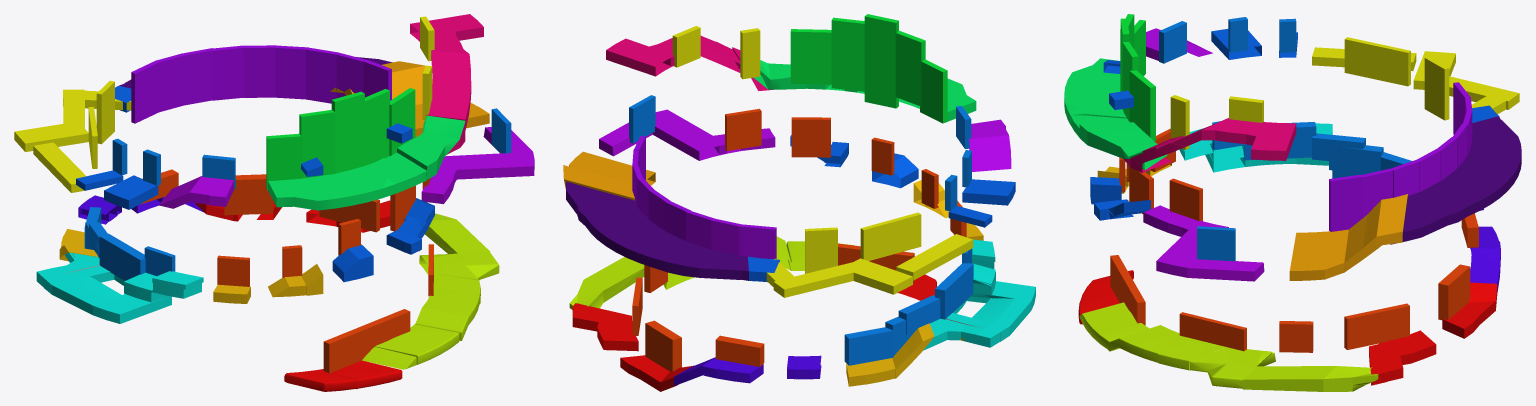
File: WallsChapel.fbx
3 views of the same model, side by side, from view 1: azimuth 30°, elevation 25°; view 2: azimuth 150°, elevation 25°; view 3: azimuth 270°, elevation 25° (orthographic). The views are drawn at different scales.
Parts seen in each view (by area): view 1: Cube__32_, Cube__42_, polySurface2, polySurface76, polySurface17, polySurface63, Cube__14_, polySurface67, Cube__7_, polySurface1, polySurface64, polySurface65 (+29 smaller); view 2: Cube__42_, polySurface70, Cube__32_, polySurface17, Cube__14_, polySurface63, polySurface2, polySurface64, Cube__34_, polySurface3, polySurface76, polySurface65 (+31 smaller); view 3: polySurface2, polySurface70, Cube__32_, polySurface64, polySurface76, polySurface63, Cube__14_, Cube__42_, Cube__34_, Cube__2_, polySurface3, polySurface83 (+29 smaller).
Part boxes in pixels (bbox=[...]): Cube__32_: bbox=[131, 45, 391, 123]; Cube__42_: bbox=[266, 88, 415, 190]; polySurface2: bbox=[362, 213, 499, 369]; polySurface76: bbox=[268, 115, 465, 210]; polySurface17: bbox=[36, 252, 203, 323]; polySurface63: bbox=[421, 127, 534, 204]; Cube__14_: bbox=[84, 207, 175, 280]; polySurface67: bbox=[426, 46, 471, 130]; Cube__7_: bbox=[323, 309, 410, 373]; polySurface1: bbox=[284, 360, 402, 391]; polySurface64: bbox=[330, 61, 489, 137]; polySurface65: bbox=[159, 176, 233, 208]; Cube__42_: bbox=[790, 14, 947, 123]; polySurface70: bbox=[566, 181, 747, 279]; Cube__32_: bbox=[632, 136, 776, 258]; polySurface17: bbox=[923, 239, 1035, 350]; Cube__14_: bbox=[844, 249, 973, 365]; polySurface63: bbox=[599, 109, 775, 160]; polySurface2: bbox=[569, 236, 853, 309]; polySurface64: bbox=[563, 151, 655, 200]; Cube__34_: bbox=[860, 212, 921, 260]; polySurface3: bbox=[572, 303, 638, 351]; polySurface76: bbox=[754, 60, 976, 121]; polySurface65: bbox=[969, 119, 1011, 171]; polySurface2: bbox=[1079, 302, 1378, 391]; polySurface70: bbox=[1390, 119, 1521, 244]; Cube__32_: bbox=[1329, 82, 1472, 231]; polySurface64: bbox=[1289, 194, 1407, 280]; polySurface76: bbox=[1064, 58, 1167, 169]; polySurface63: bbox=[1143, 205, 1264, 281]; Cube__14_: bbox=[1212, 121, 1411, 178]; Cube__42_: bbox=[1120, 14, 1155, 140]; Cube__34_: bbox=[1344, 37, 1410, 86]; Cube__2_: bbox=[1344, 303, 1409, 349]; polySurface3: bbox=[1369, 330, 1436, 385]; polySurface83: bbox=[1229, 119, 1296, 160].
Size of the model in its own units: 12.95 by 7.81 by 11.46.
